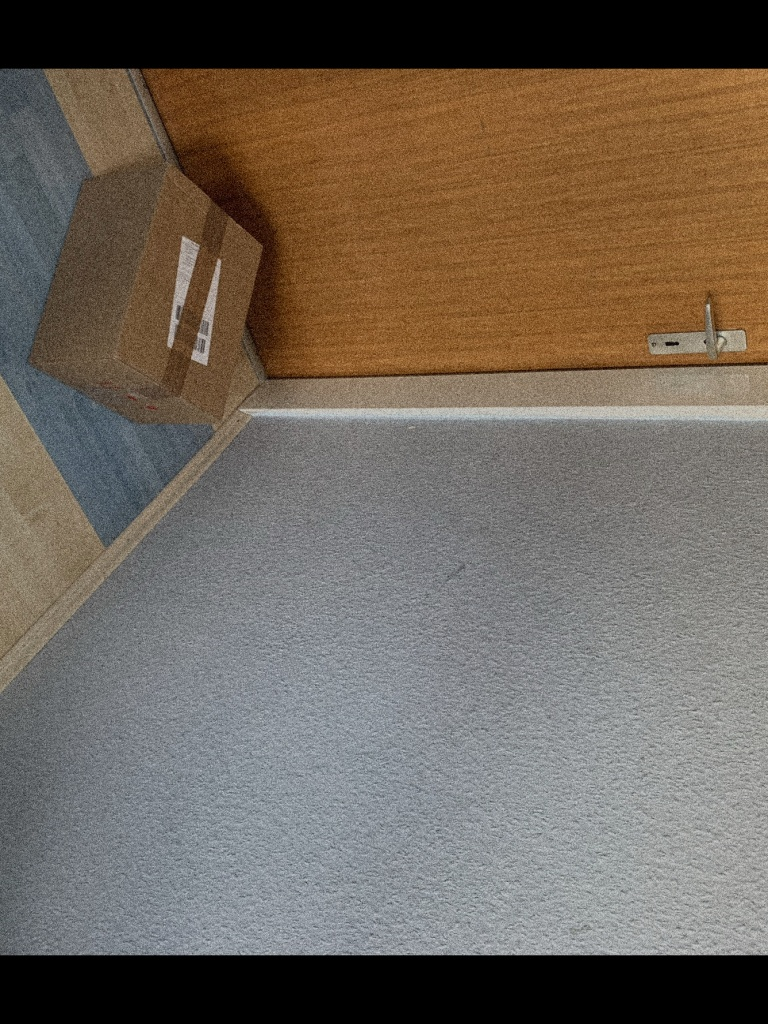good-parcel: (27, 142, 275, 447)
